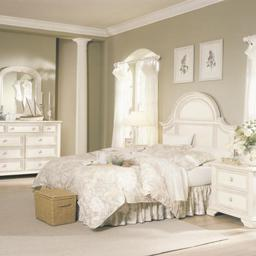Cama: (41, 93, 225, 225)
Ventana: (115, 57, 158, 140)
